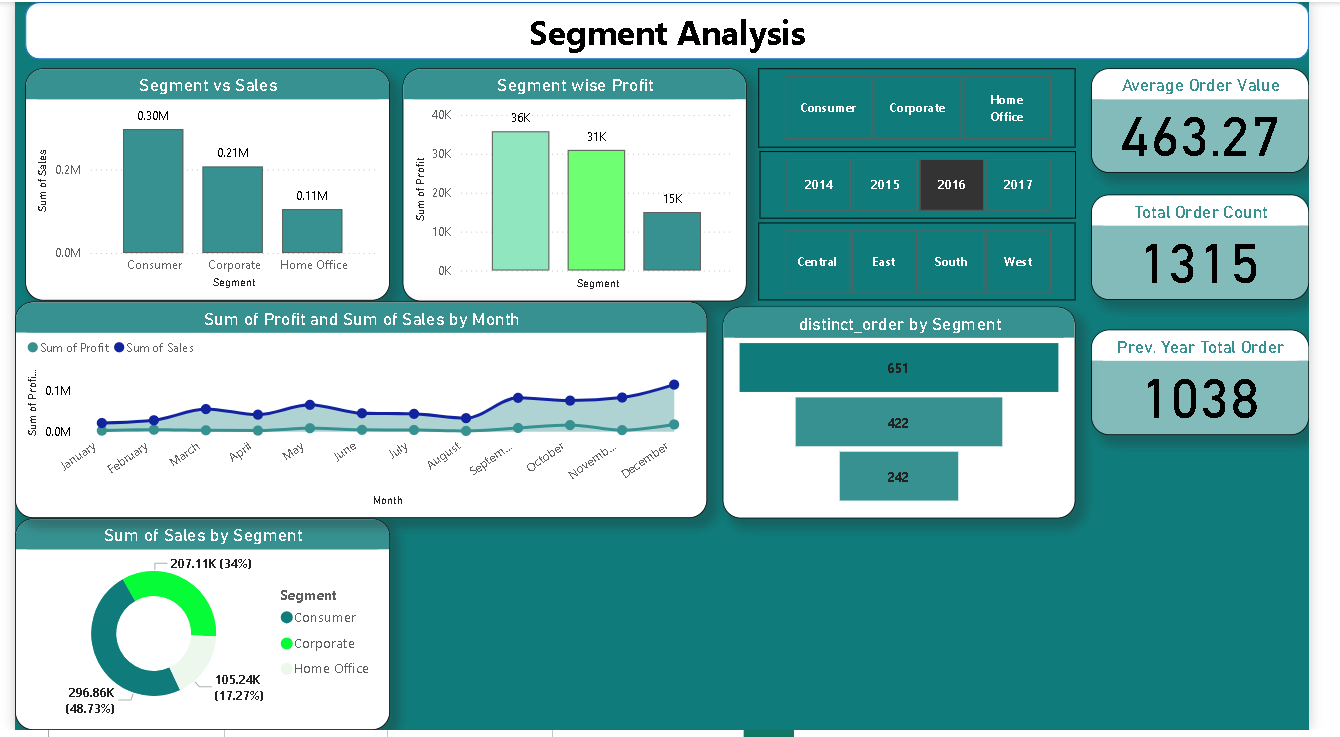

What the dashboard file says about the page in this screenshot:
{"tool":"powerbi","page":{"name":"Segment Dashboard","canvas":[1280,720],"ordinal":3},"visuals":[{"type":"shape","box":[10.1,0,1270,56.8],"z":0},{"type":"columnChart","title":"Segment vs Sales","fields":{"Category":["final_data.Segment"],"Y":["Sum(final_data.Sales)"]},"box":[10.1,65.6,360.7,229.5],"z":1000},{"type":"clusteredColumnChart","title":"Segment wise Profit","fields":{"Category":["final_data.Segment"],"Y":["Sum(final_data.Profit)"]},"box":[383.4,65.6,340.5,230.8],"z":2000},{"type":"donutChart","fields":{"Category":["final_data.Segment"],"Y":["Sum(final_data.Sales)"]},"box":[0,510.8,370.8,209.4],"z":3000},{"type":"card","title":"Average Order Value","fields":{"Values":["final_data.Avg_order_value"]},"box":[1064.4,65.6,215.7,103.4],"z":4000},{"type":"slicer","fields":{"Values":["final_data.Segment"]},"box":[735.3,65.6,314,78.2],"z":5000},{"type":"slicer","fields":{"Values":["final_data.Order Date.Variation.Date Hierarchy.Year"]},"box":[736.5,147.6,312.8,66.8],"z":6000},{"type":"slicer","fields":{"Values":["final_data.Region"]},"box":[735.3,218.2,314,76.9],"z":7000},{"type":"stackedAreaChart","fields":{"Category":["final_data.Order Date.Variation.Date Hierarchy.Month"],"Y":["Sum(final_data.Profit)","Sum(final_data.Sales)"]},"box":[0,296.4,684.8,214.4],"z":8000},{"type":"card","title":"Total Order Count","fields":{"Values":["final_data.distinct_order"]},"box":[1064.4,190.4,215.7,104.7],"z":9000},{"type":"card","title":"Prev. Year Total Order","fields":{"Values":["final_data.Prev_year"]},"box":[1064.4,324.1,215.7,104.7],"z":10000},{"type":"funnel","fields":{"Category":["final_data.Segment"],"Y":["final_data.distinct_order"]},"box":[700,301.4,349.3,209.4],"z":11000}]}

Visuals, with their boxes in screenshot pixels (x1, y1, x2, y2), scaled from the page's 1280x720 canvas onto the 1340x737 screenshot:
shape: left=11, top=0, right=1339, bottom=58
"Segment vs Sales" columnChart: left=11, top=67, right=388, bottom=302
"Segment wise Profit" clusteredColumnChart: left=401, top=67, right=758, bottom=303
donutChart - final_data.Segment x Sum(final_data.Sales): left=0, top=523, right=388, bottom=736
"Average Order Value" card: left=1114, top=67, right=1339, bottom=173
slicer - final_data.Segment: left=770, top=67, right=1098, bottom=147
slicer - final_data.Order Date.Variation.Date Hierarchy.Year: left=771, top=151, right=1098, bottom=219
slicer - final_data.Region: left=770, top=223, right=1098, bottom=302
stackedAreaChart - final_data.Order Date.Variation.Date Hierarchy.Month x Sum(final_data.Profit): left=0, top=303, right=717, bottom=523
"Total Order Count" card: left=1114, top=195, right=1339, bottom=302
"Prev. Year Total Order" card: left=1114, top=332, right=1339, bottom=439
funnel - final_data.Segment x final_data.distinct_order: left=733, top=309, right=1098, bottom=523
